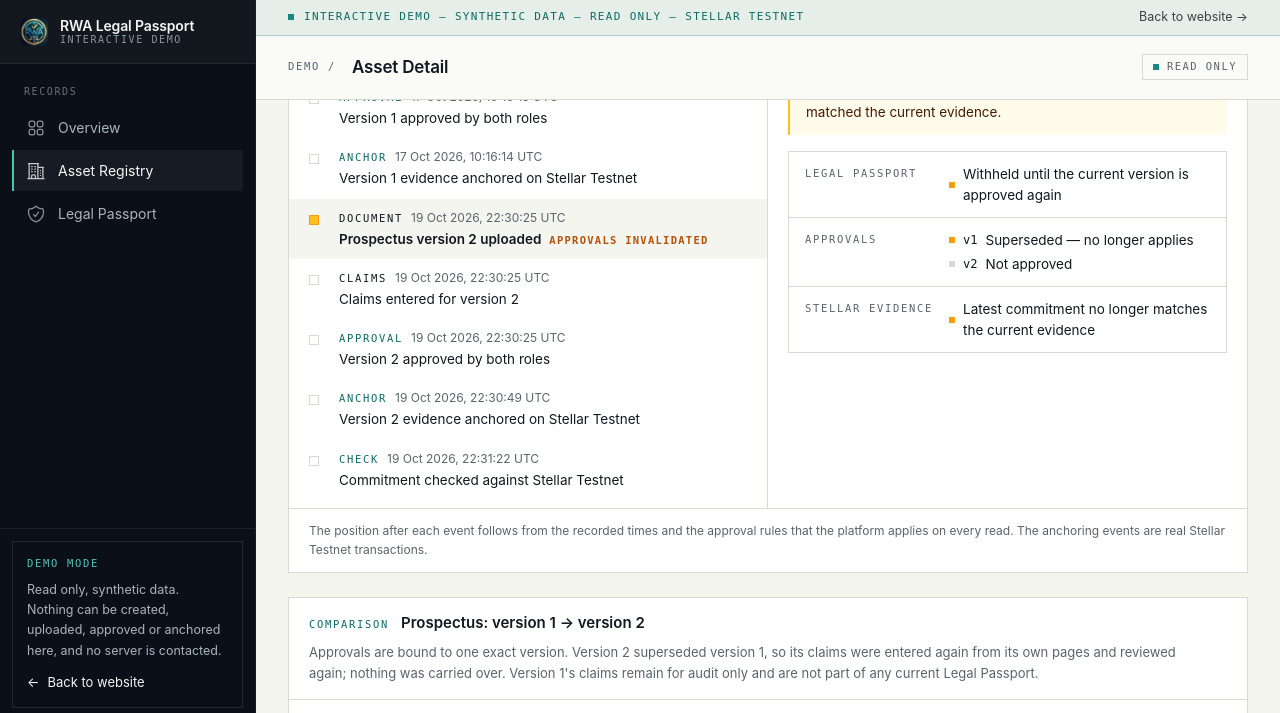
it: Public demo › explains what changed and why the earlier approvals stopped applying
The image size is (1280, 713).
(page scrolled)
Expected: the element with test id "timeline-state" shows "Withheld until the current version is approved again", [963,166,1189,203]
Expected: the element with test id "timeline-state" shows "v1 Superseded — no longer applies", [768,100,1247,508]
Note: The re-approved and re-anchored version
Click the 6th button with test id "timeline-event". click: (528, 409)
box: [289,379,767,440]
(page scrolled)
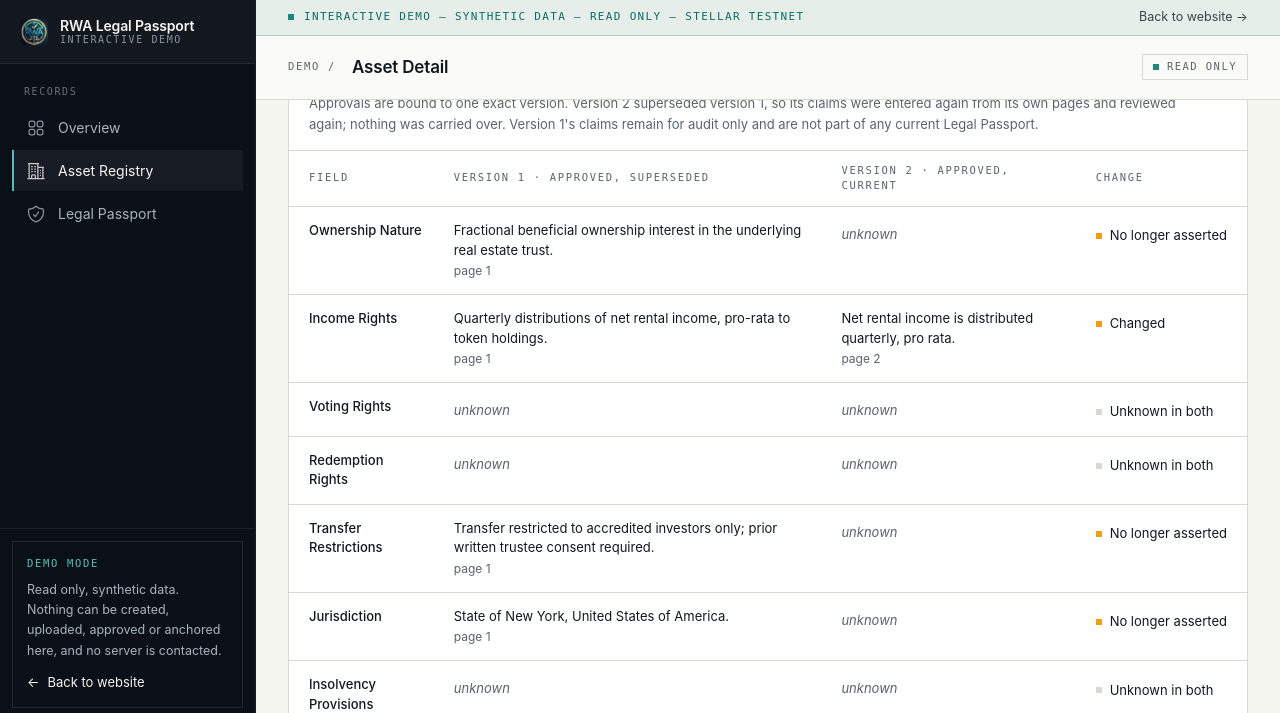
Expected: the row with test id "comparison-income_rights" shows "Changed", [1110,315,1165,331]
Expected: the row with test id "comparison-jurisdiction" shows "No longer asserted", [1110,613,1227,629]
Expected: the row with test id "comparison-voting_rights" shows "Unknown in both", [1110,403,1214,419]
